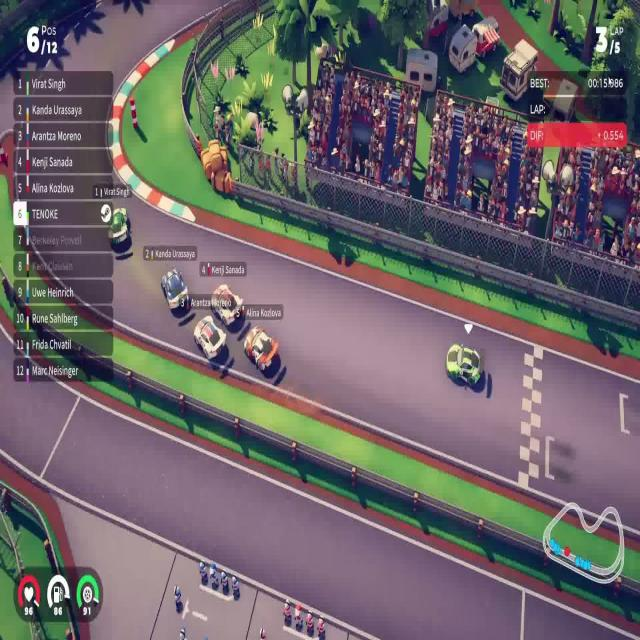car: (445, 342, 483, 388), (243, 325, 279, 372), (193, 315, 226, 361), (210, 282, 244, 326), (160, 267, 190, 314), (107, 206, 131, 248)
